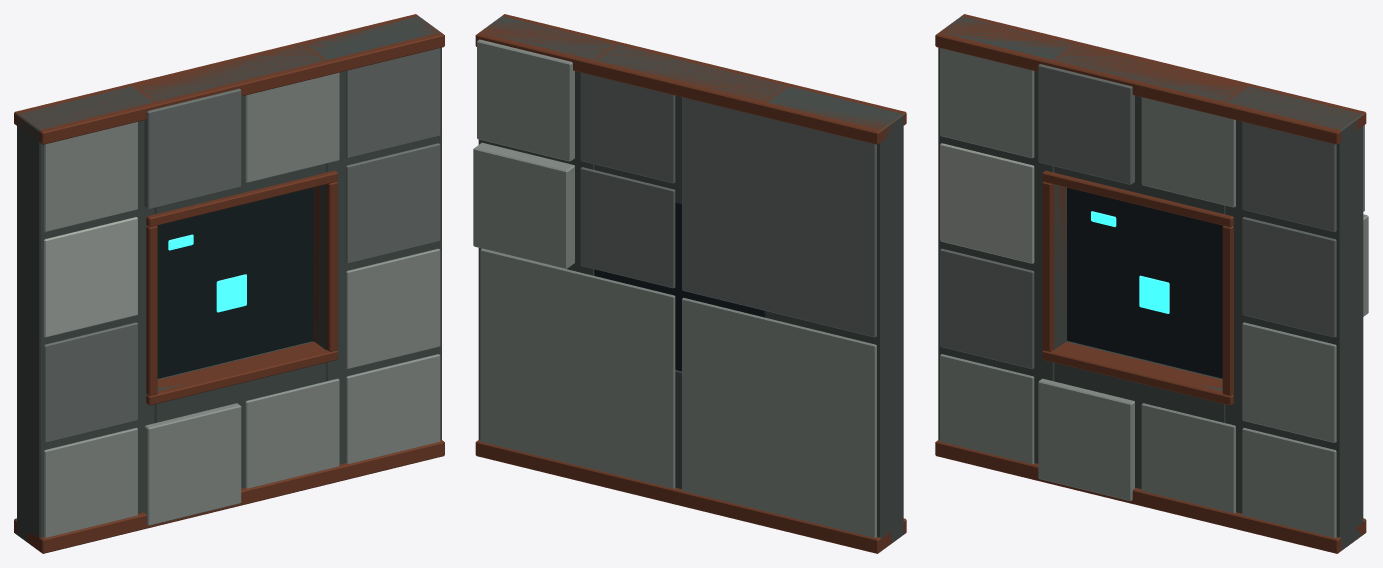
File: RUIN_WALL_Window_4x4.glb
3 renders of one model, left to right at view 1: azimuth 30°, elevation 25°; view 2: azimuth 150°, elevation 25°; view 3: azimuth 330°, elevation 25°, orthographic.
Parts seen in each view (by area): view 1: RUIN_WALL_Window_4x4; view 2: RUIN_WALL_Window_4x4; view 3: RUIN_WALL_Window_4x4.
Part boxes in pixels (x1,y1,x2,y2): RUIN_WALL_Window_4x4: (14, 14, 444, 553); RUIN_WALL_Window_4x4: (473, 14, 906, 553); RUIN_WALL_Window_4x4: (935, 14, 1368, 553).
Size of the model in its own units: 4 by 4 by 0.625.
